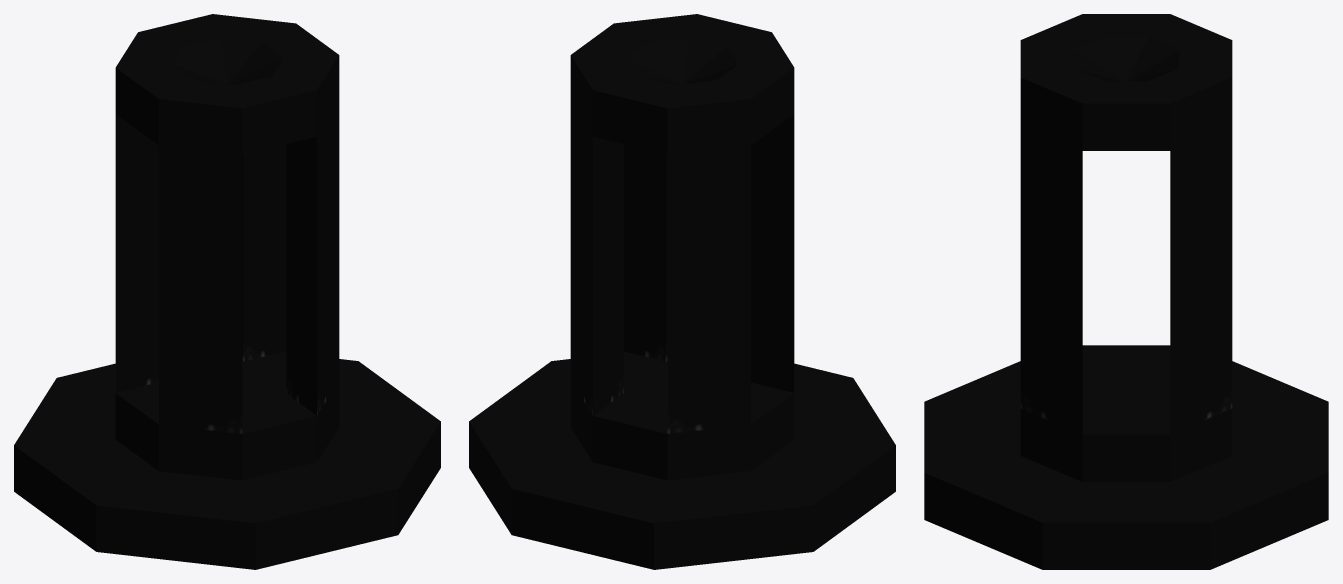
File: manaweaving_projector.obj
The picture shows the model from 3 angles, left to right: view 1: azimuth 30°, elevation 25°; view 2: azimuth 150°, elevation 25°; view 3: azimuth 270°, elevation 25°; orthographic projection.
Parts seen in each view (by area): view 1: MAIN_BODY_Cylinder; view 2: MAIN_BODY_Cylinder; view 3: MAIN_BODY_Cylinder.
Boxes of the visible parts, x1=… form: MAIN_BODY_Cylinder: x1=14, y1=14, x2=440, y2=569; MAIN_BODY_Cylinder: x1=469, y1=14, x2=895, y2=569; MAIN_BODY_Cylinder: x1=924, y1=14, x2=1328, y2=569.
Size of the model in its own units: 0.485 by 0.563 by 0.485.
